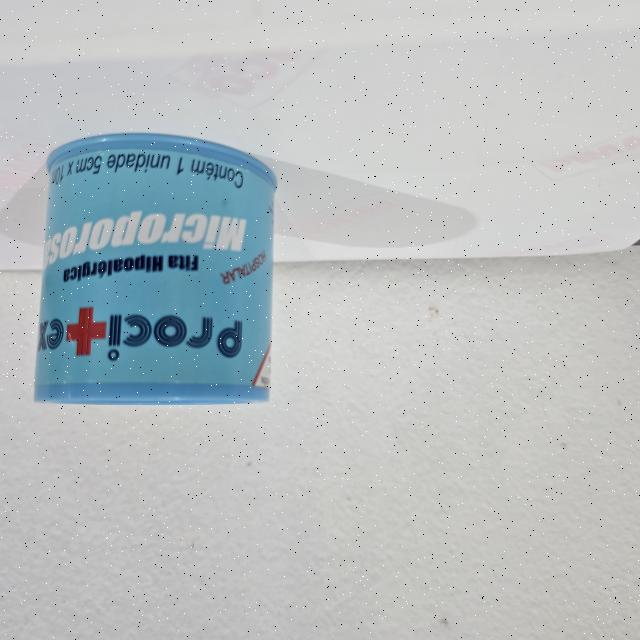procitex: (28, 126, 280, 410)
